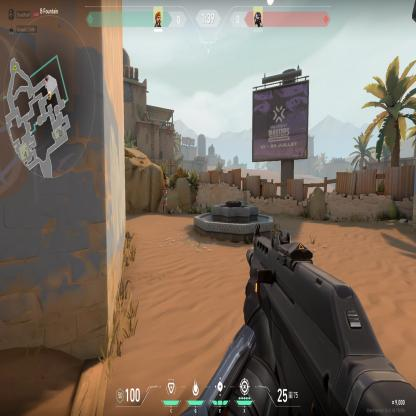enemy: (161, 186, 169, 216)
